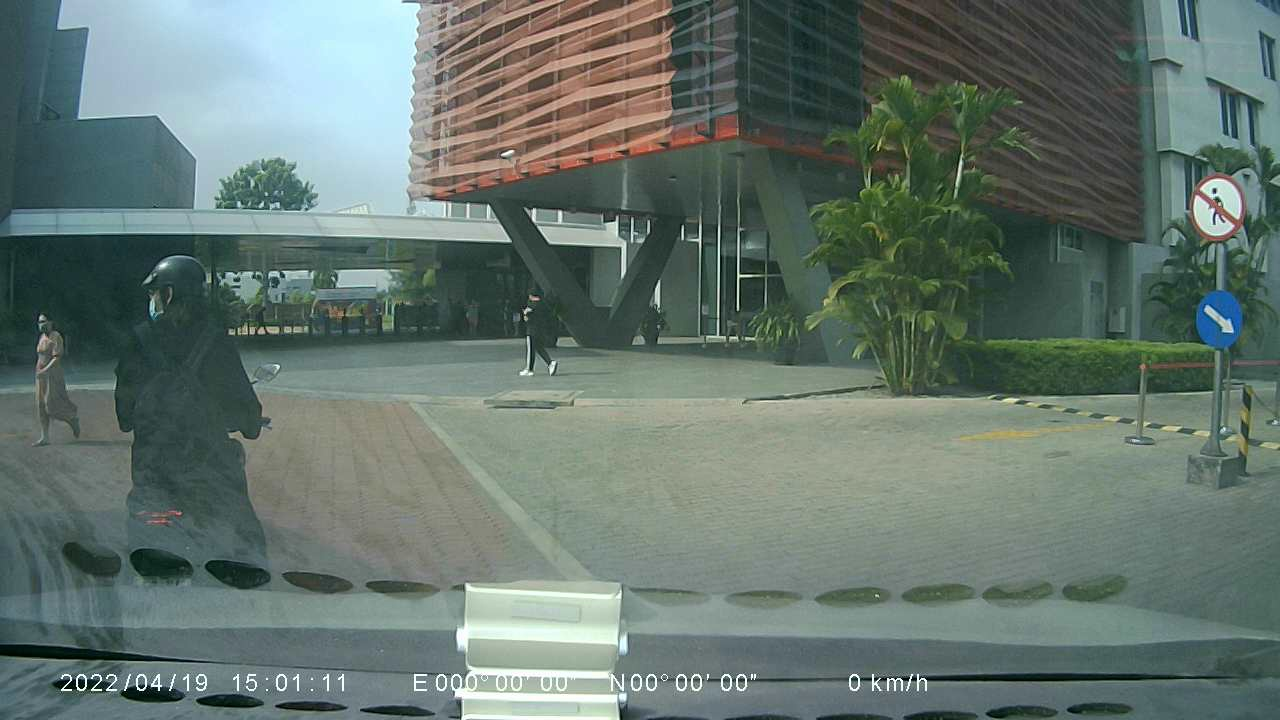Huong di phai re phai: (1189, 289, 1244, 347)
